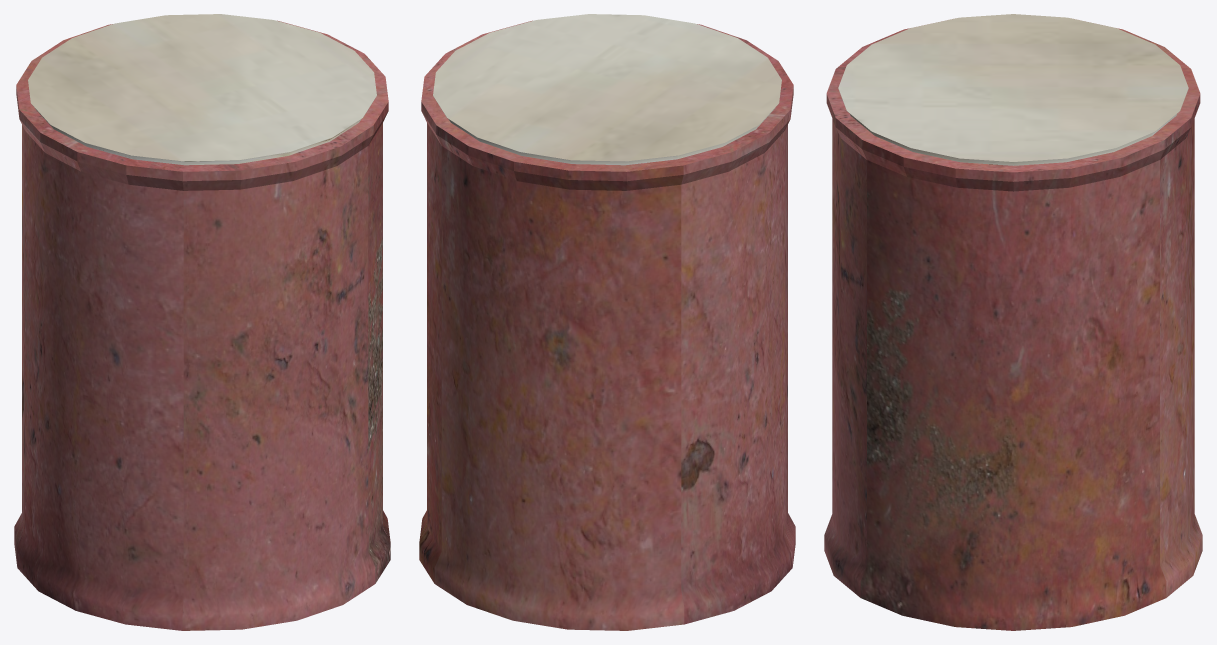
File: caixote.fbx
3 views of the same model, side by side, from view 1: azimuth 30°, elevation 25°; view 2: azimuth 150°, elevation 25°; view 3: azimuth 270°, elevation 25° (orthographic).
Visible parts, largest first — view 1: pCylinder137, pCylinder138; view 2: pCylinder137, pCylinder138; view 3: pCylinder137, pCylinder138.
Part boxes in pixels (<box>): pCylinder137: <box>14,20,390,630</box>; pCylinder138: <box>28,14,376,165</box>; pCylinder137: <box>419,20,795,630</box>; pCylinder138: <box>433,14,781,165</box>; pCylinder137: <box>824,28,1202,630</box>; pCylinder138: <box>838,14,1188,165</box>.
Size of the model in its own units: 3.68 by 4.98 by 3.68.
